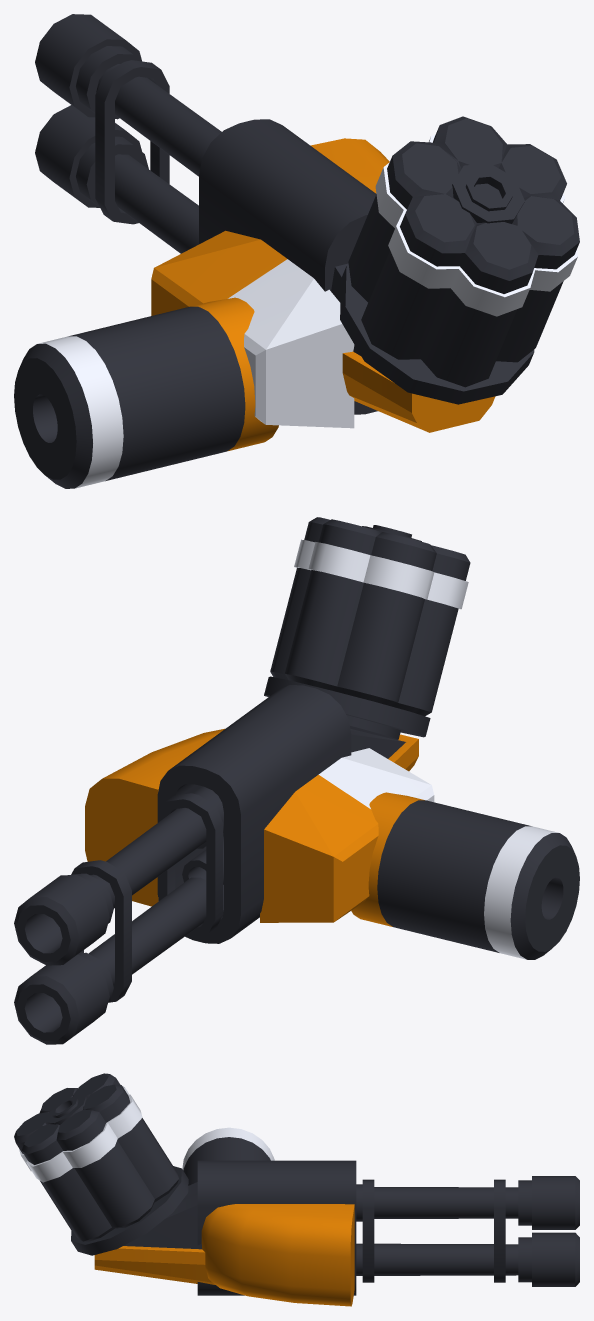
File: Pico_SideCannon.glb
3 views of the same model, one above another, from view 1: azimuth 30°, elevation 25°; view 2: azimuth 150°, elevation 25°; view 3: azimuth 270°, elevation 25° (orthographic). The views are drawn at different scales.
Visible parts, largest first — view 1: mergedBlocks(Clone); view 2: mergedBlocks(Clone); view 3: mergedBlocks(Clone).
Boxes of the visible parts, left/top/right/bottom form: mergedBlocks(Clone): left=14, top=14, right=579, bottom=488; mergedBlocks(Clone): left=14, top=517, right=579, bottom=1044; mergedBlocks(Clone): left=14, top=1073, right=579, bottom=1306.
Bounding box in the file's own units: 2.03 × 1.56 × 3.61.
Materials: 1 (1 with a texture image).
